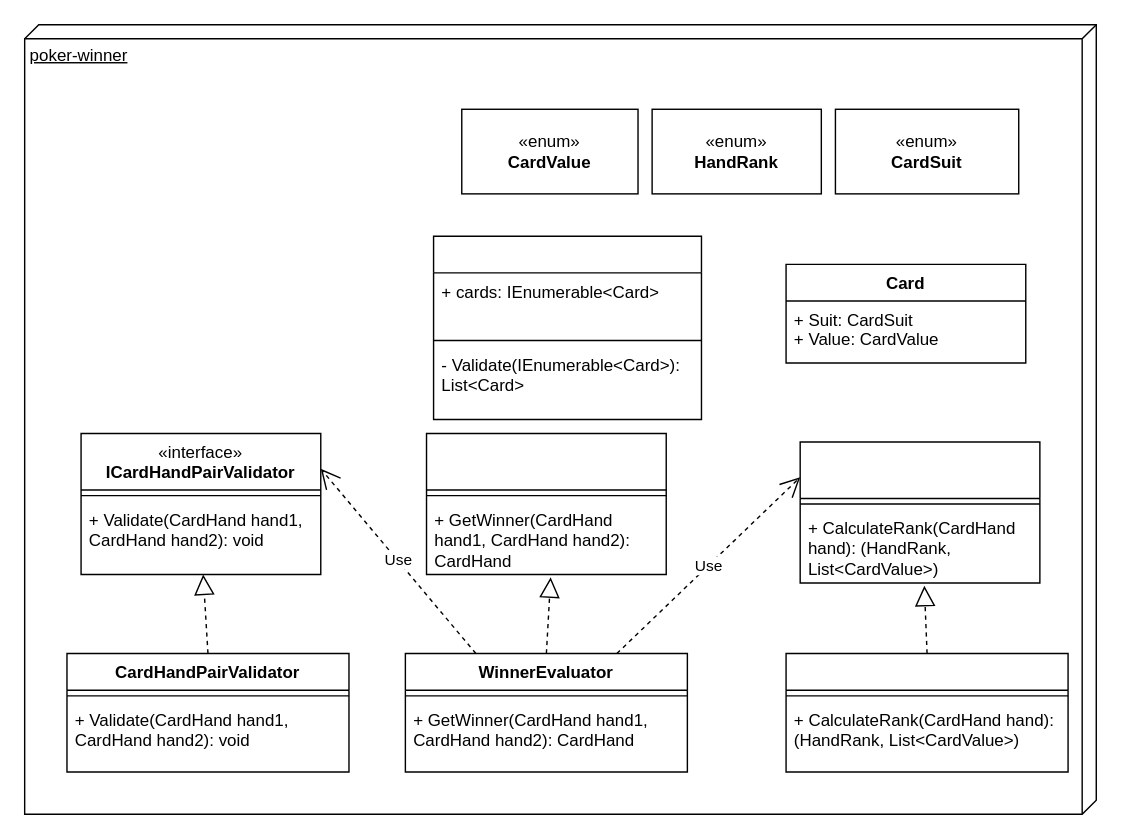
This 1121x839 diagram has some shape labels left out. The box of each missing label's shape, as (x1, y1, x2, y2) in pixels:
CardHand: (432, 235, 701, 419)
RankCalculator: (785, 652, 1068, 772)
«interface» IRankCalculator: (799, 441, 1040, 583)
«interface» IWinnerEvaluator: (425, 432, 666, 575)
